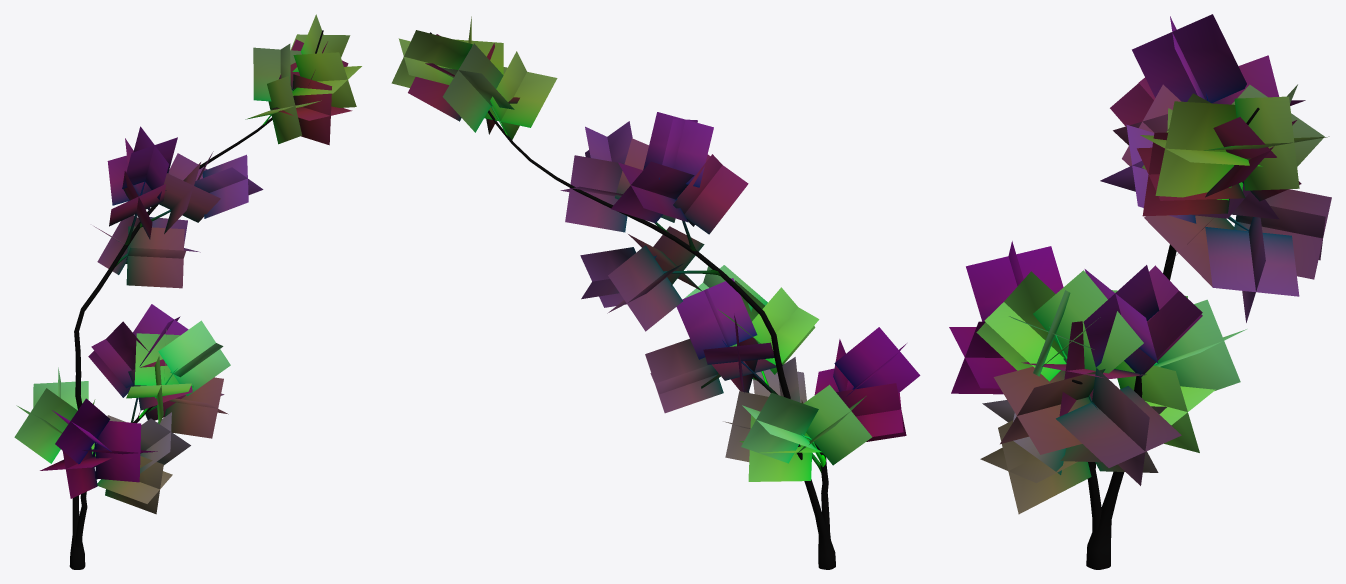
File: URP_P5_Tree_10_LOD_0.fbx
3 views of the same model, side by side, from view 1: azimuth 30°, elevation 25°; view 2: azimuth 150°, elevation 25°; view 3: azimuth 270°, elevation 25° (orthographic). The views are drawn at different scales.
Visible parts, largest first — view 1: Tree_10_LOD_0; view 2: Tree_10_LOD_0; view 3: Tree_10_LOD_0.
Part boxes in pixels (x1,y1,x2,y2): Tree_10_LOD_0: (14, 14, 361, 569); Tree_10_LOD_0: (391, 16, 920, 569); Tree_10_LOD_0: (949, 14, 1331, 569).
Size of the model in its own units: 617 by 687 by 340.
